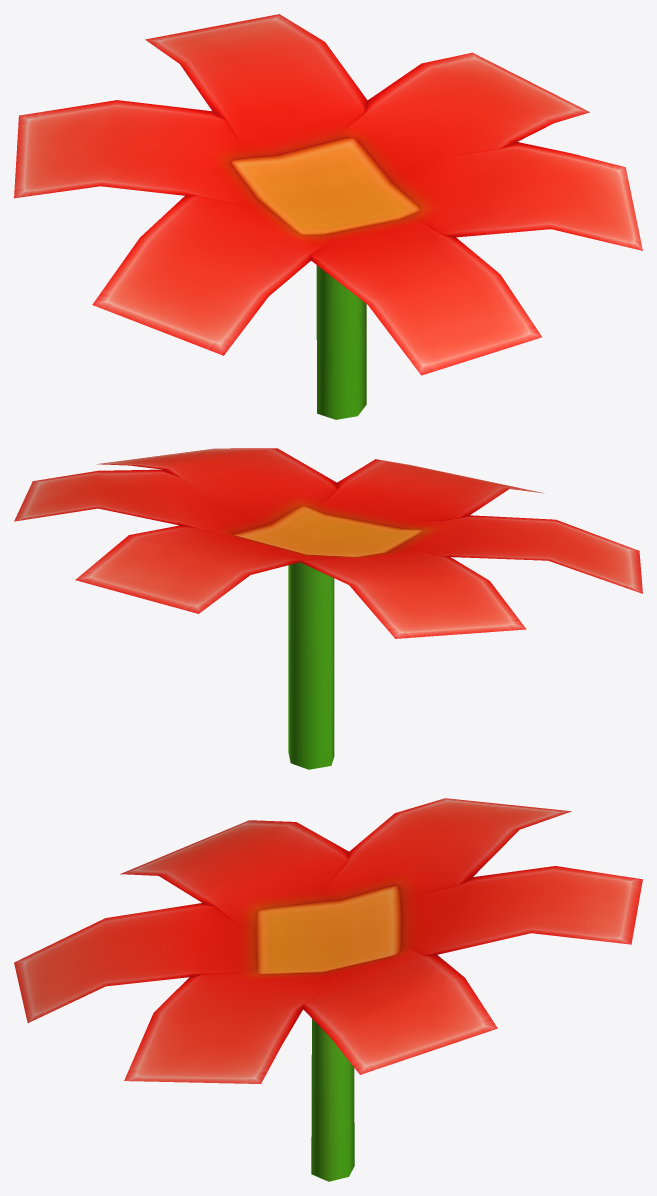
Rendered from SM_Flower_01_A.fbx.
3 views of the same model, one above another, from view 1: azimuth 30°, elevation 25°; view 2: azimuth 150°, elevation 25°; view 3: azimuth 270°, elevation 25° (orthographic).
Visible parts, largest first — view 1: polySurface659; view 2: polySurface659; view 3: polySurface659.
Part boxes in pixels (left/top/right/bottom): polySurface659: left=14, top=14, right=642, bottom=419; polySurface659: left=14, top=448, right=642, bottom=769; polySurface659: left=14, top=798, right=642, bottom=1181.
Size of the model in its own units: 20.57 by 9.86 by 20.07.
